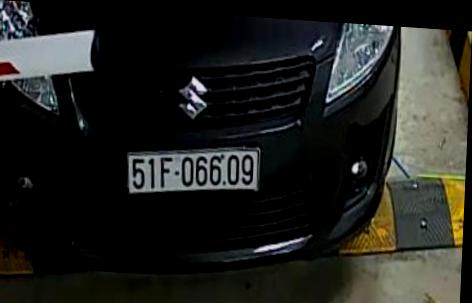License_Plate: (119, 130, 281, 215)
